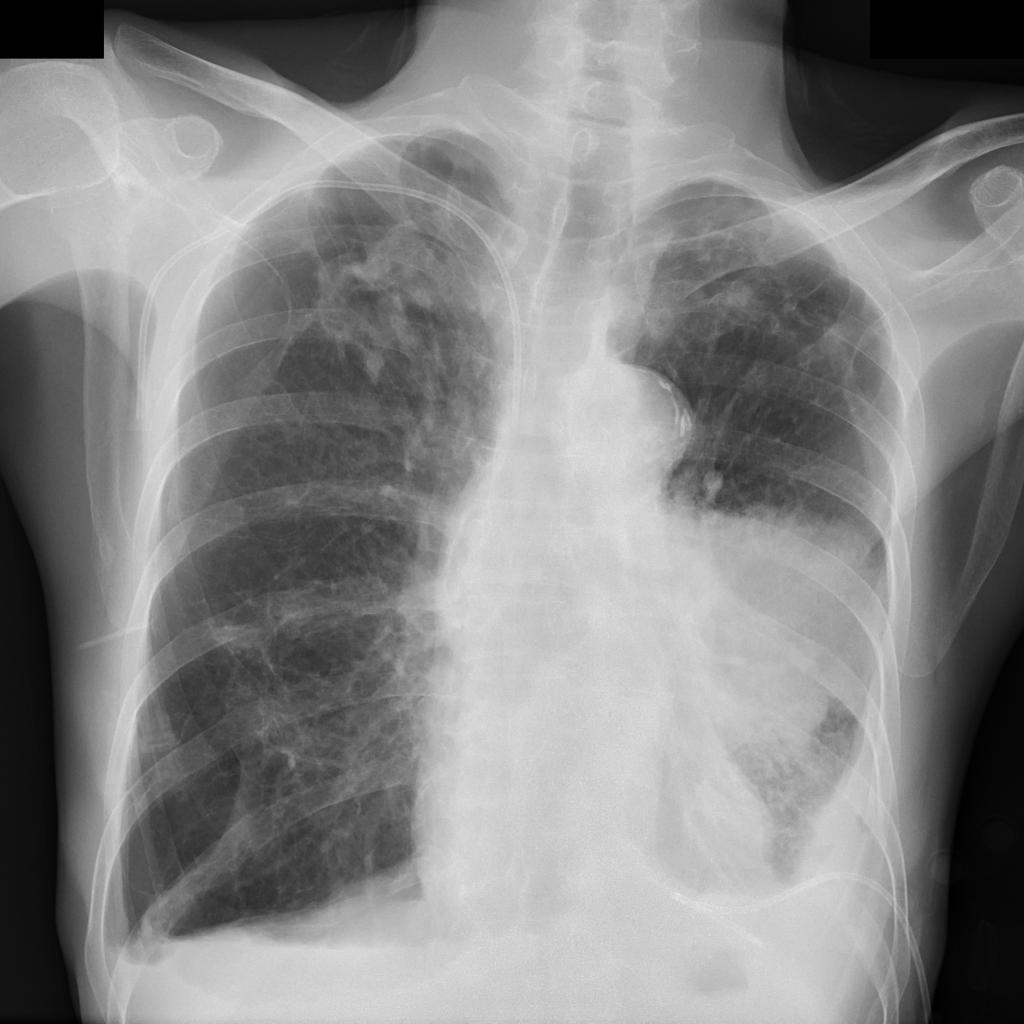Nodule: (650, 502, 878, 758)
